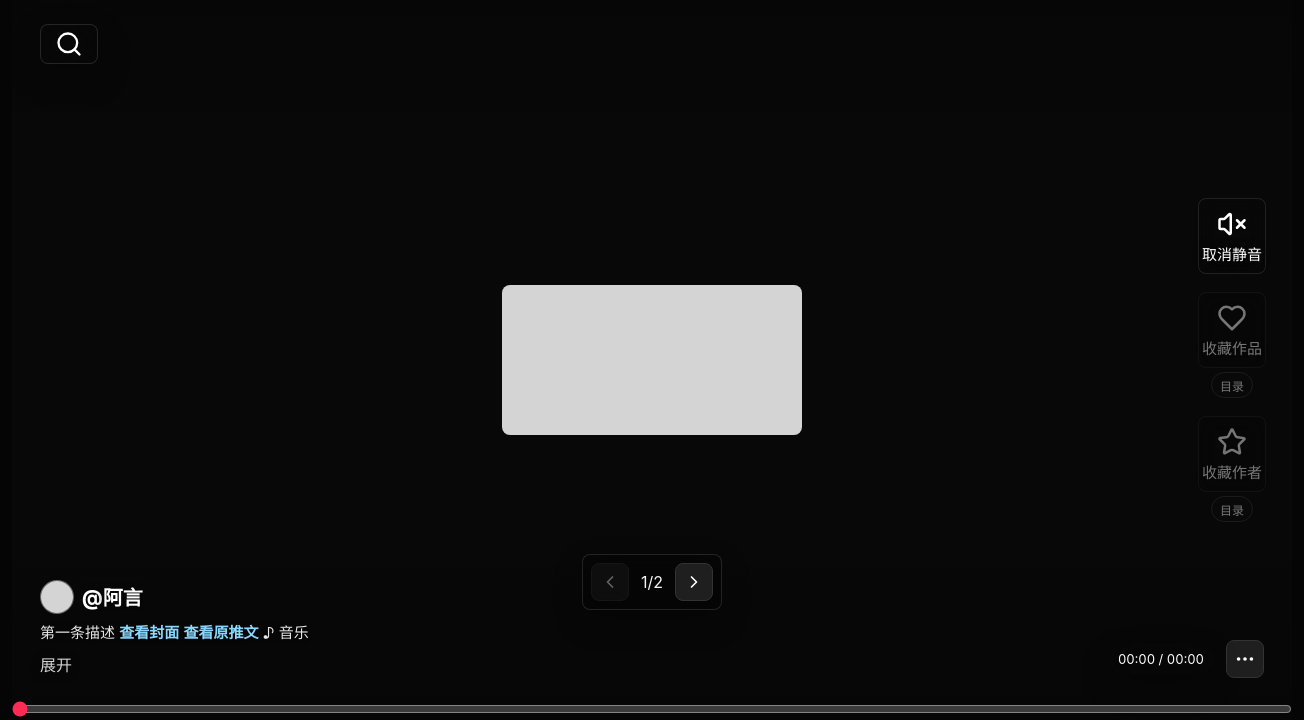
Test: configures overlay opacity and persists it locally
Click the button named "更多播放控制".
click(1245, 659)  # box [1226,640,1264,678]
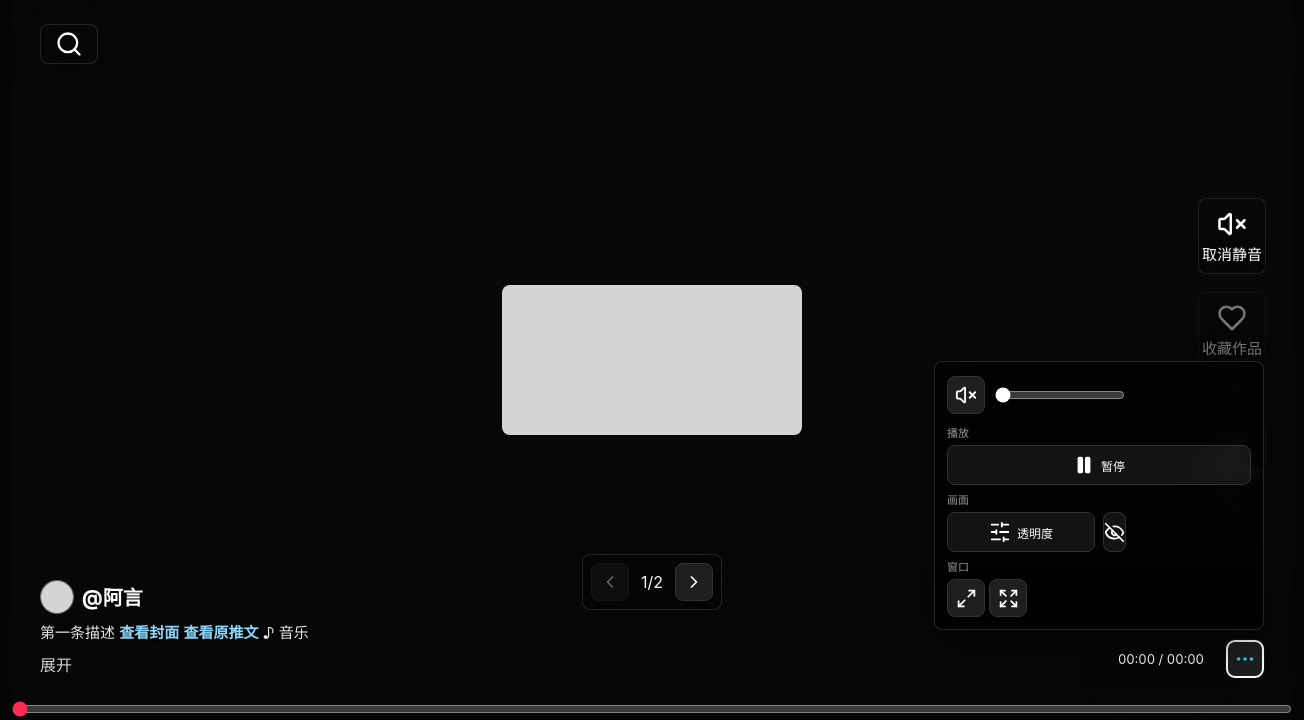
Click the button with aria-label "悬浮透明度".
click(1021, 532)  # box [947,512,1095,552]
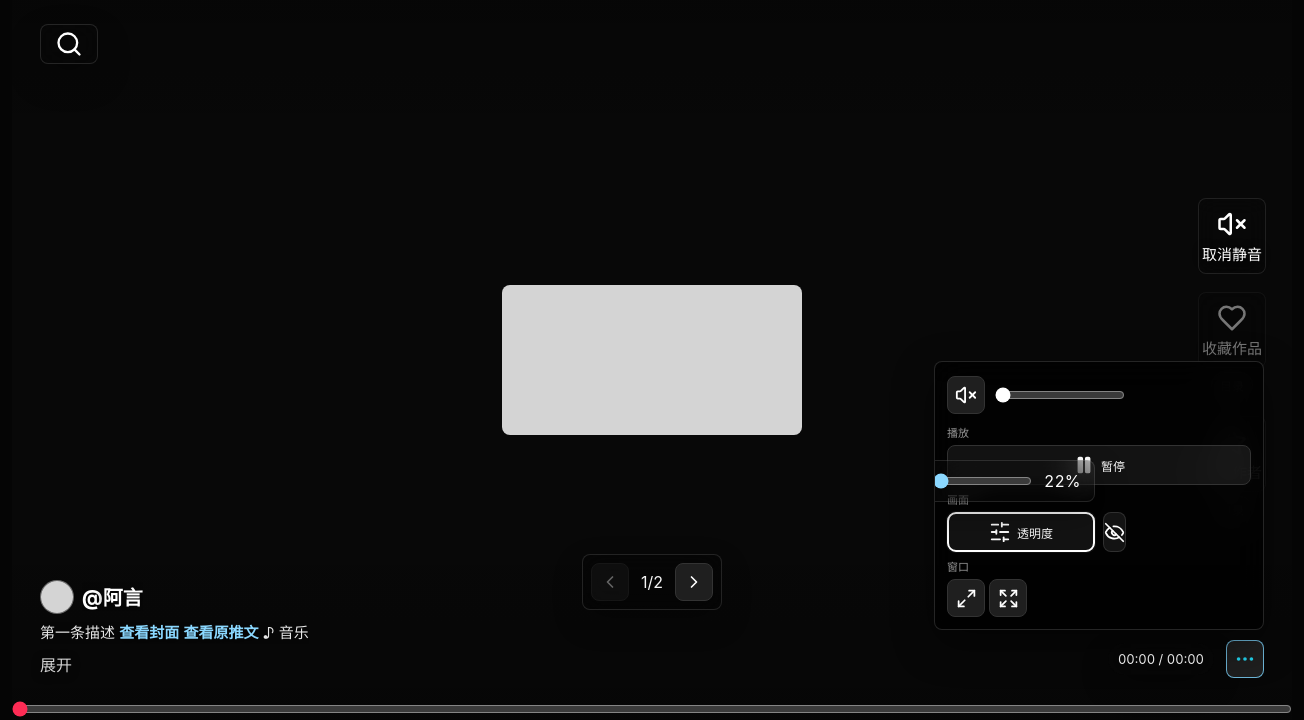
Set the slider named "悬浮透明度数值" to "0.36" at (972, 481), box [903,473,1032,489]
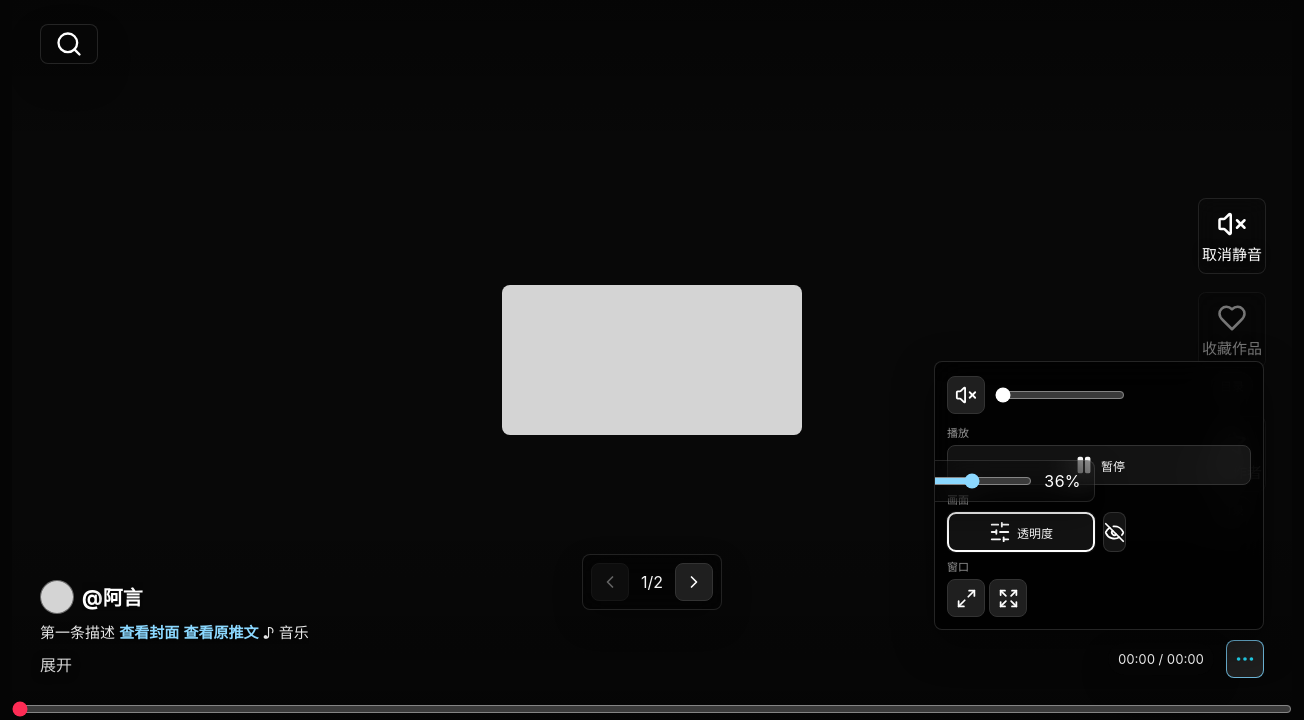
expect the text "36%" is shown: met, box [1044,471,1082,491]
